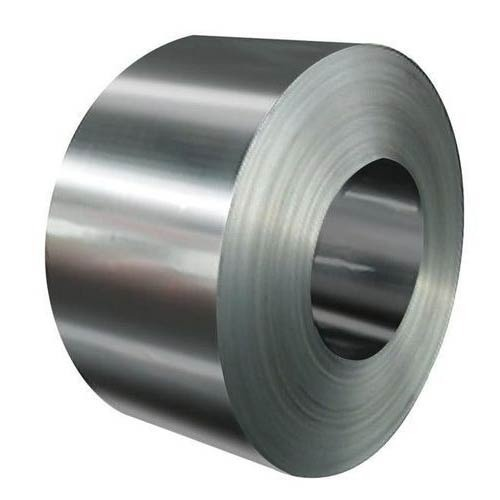steel-coil: (43, 29, 463, 431)
